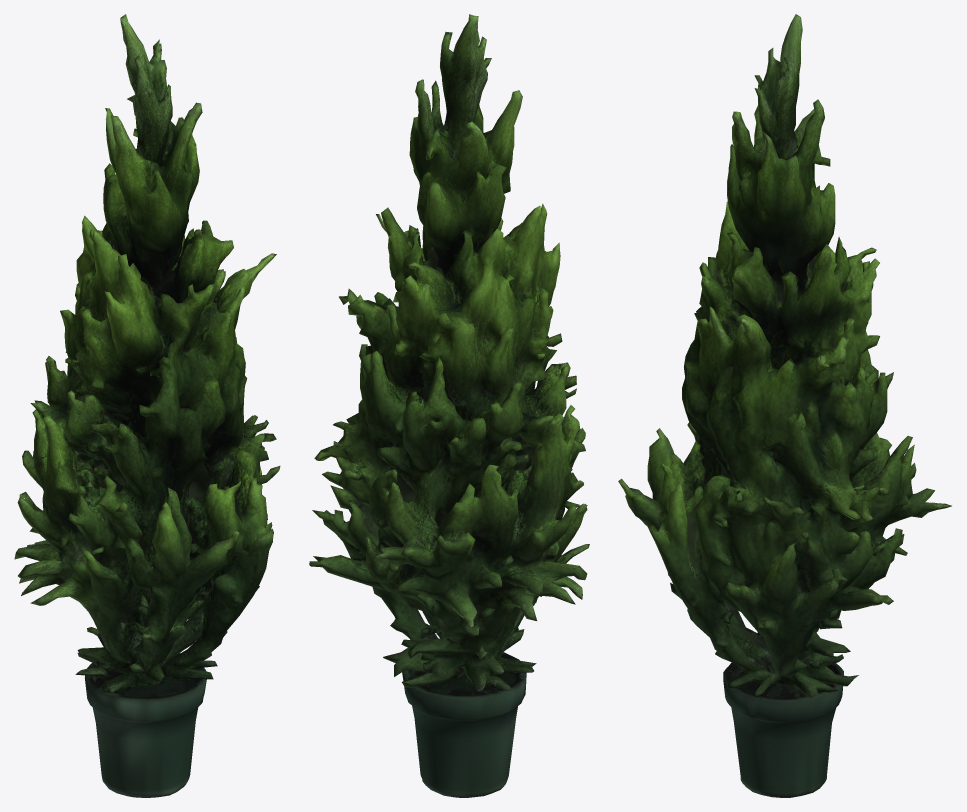
Rendered from CEDAR_CYPREE_TREE_5FeetTall_0222184813_texture.glb.
3 views of the same model, side by side, from view 1: azimuth 30°, elevation 25°; view 2: azimuth 150°, elevation 25°; view 3: azimuth 270°, elevation 25° (orthographic). The views are drawn at different scales.
Visible parts, largest first — view 1: Mesh_0; view 2: Mesh_0; view 3: Mesh_0.
Part boxes in pixels (left/top/right/bottom): Mesh_0: left=14, top=14, right=280, bottom=797; Mesh_0: left=309, top=14, right=589, bottom=797; Mesh_0: left=618, top=14, right=951, bottom=797.
Size of the model in its own units: 0.5132 by 1.52 by 0.6071.
Materials: 1 (1 with a texture image).
